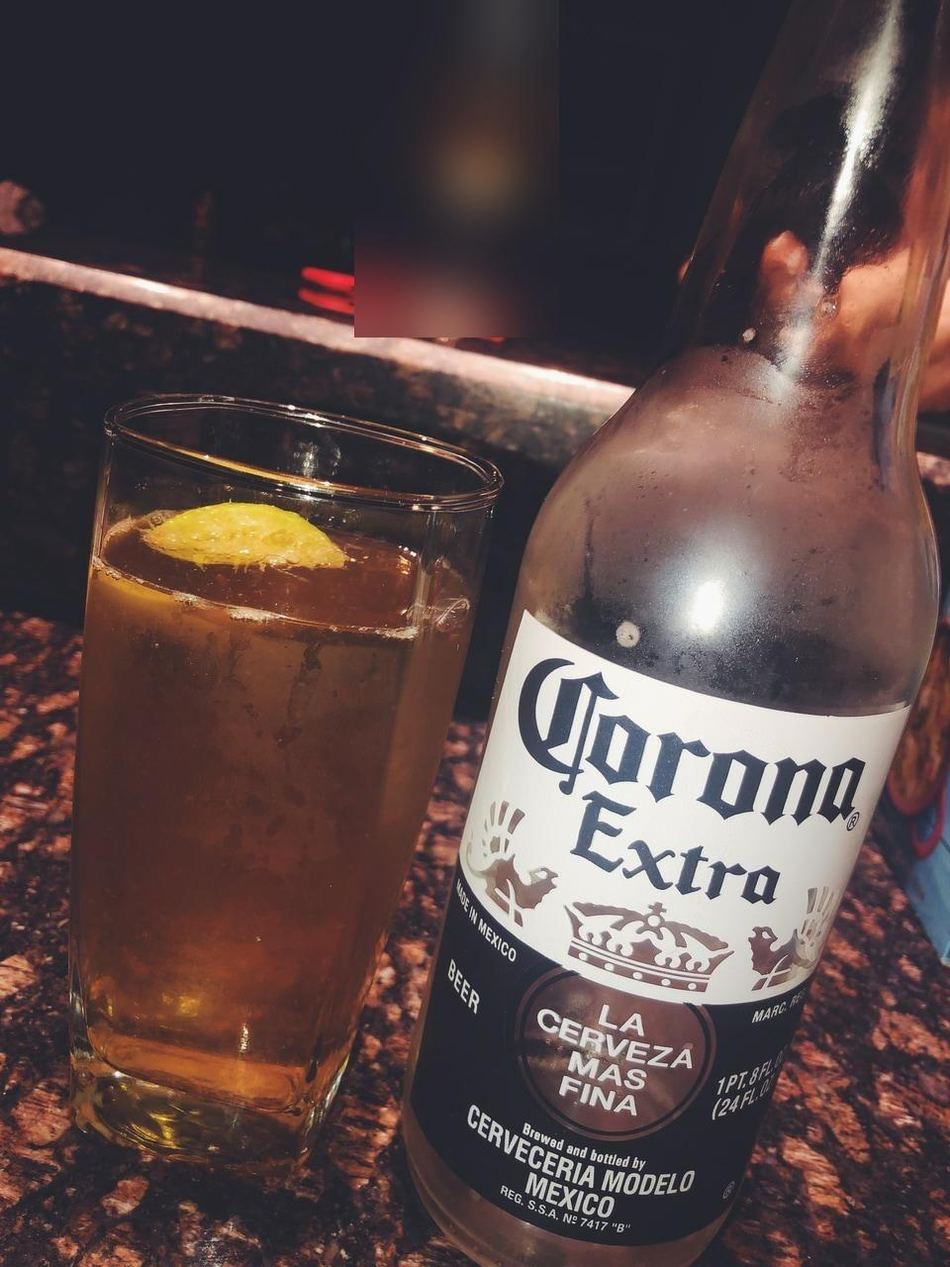bottle-glass: (404, 0, 950, 1267)
glass-normal: (63, 382, 509, 1202)
